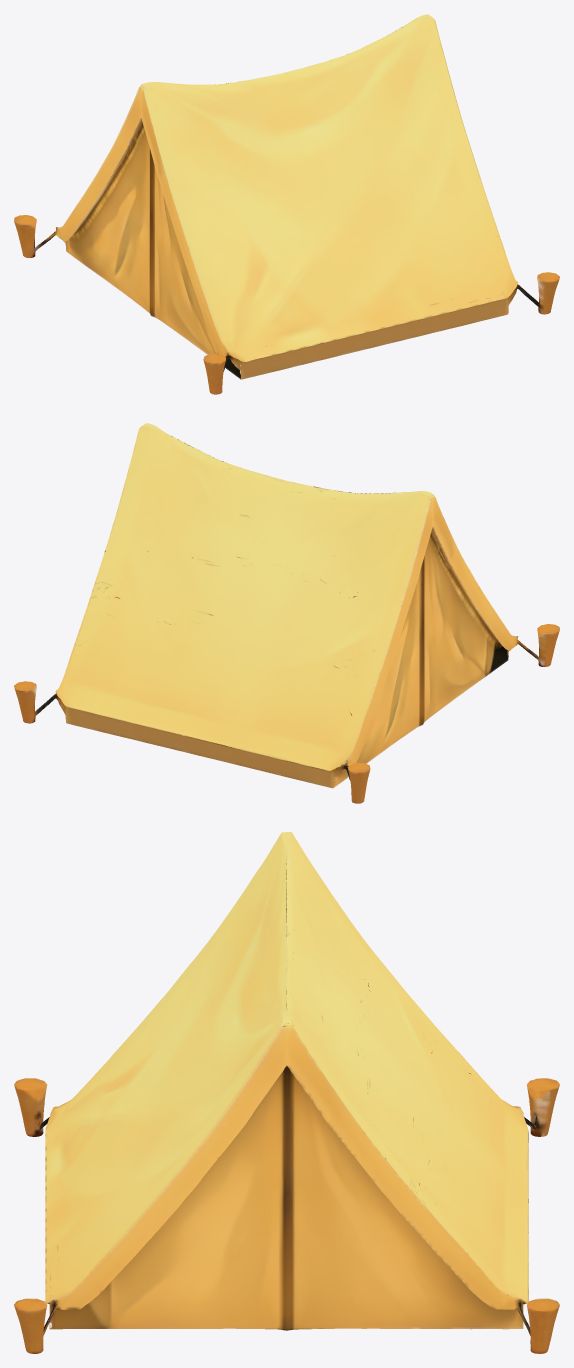
Rendered from base_basic_shaded.fbx.
3 renders of one model, top to bottom at view 1: azimuth 30°, elevation 25°; view 2: azimuth 150°, elevation 25°; view 3: azimuth 270°, elevation 25°, orthographic. The views are drawn at different scales.
Visible parts, largest first — view 1: model; view 2: model; view 3: model.
Part boxes in pixels (x1=…): model: x1=14, y1=14, x2=559, y2=394; model: x1=14, y1=423, x2=559, y2=803; model: x1=14, y1=832, x2=559, y2=1353.
Bounding box in the file's own units: 190 × 120 × 188.
